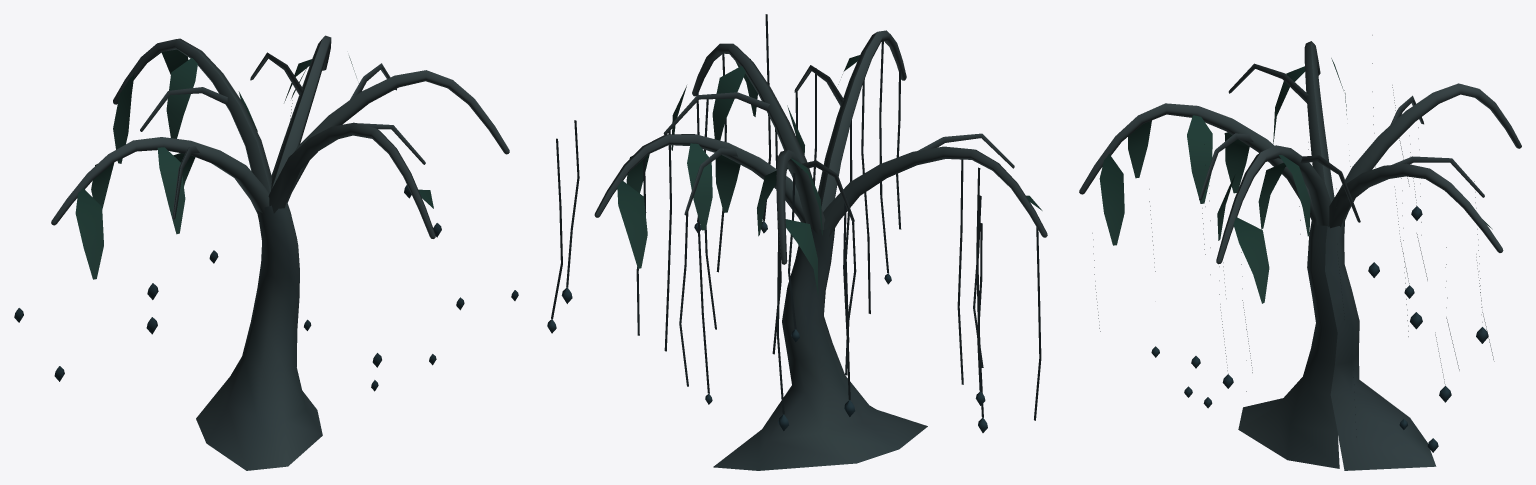
The model's file is weepingTree_lod1.glb.
3 renders of one model, left to right at view 1: azimuth 30°, elevation 25°; view 2: azimuth 150°, elevation 25°; view 3: azimuth 270°, elevation 25°, orthographic.
Visible parts, largest first — view 1: weeping tree; view 2: weeping tree; view 3: weeping tree.
Part boxes in pixels (x1=…): weeping tree: x1=14, y1=35, x2=518, y2=470; weeping tree: x1=547, y1=14, x2=1047, y2=470; weeping tree: x1=1079, y1=35, x2=1521, y2=470.
Size of the model in its own units: 10.37 by 8.04 by 8.9.
